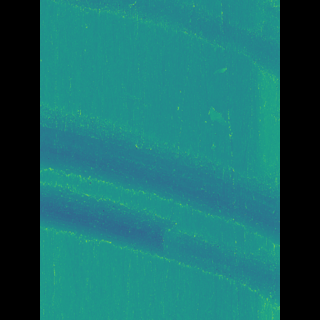Loch: (69, 100, 251, 245), (69, 177, 250, 308), (89, 0, 251, 75)
